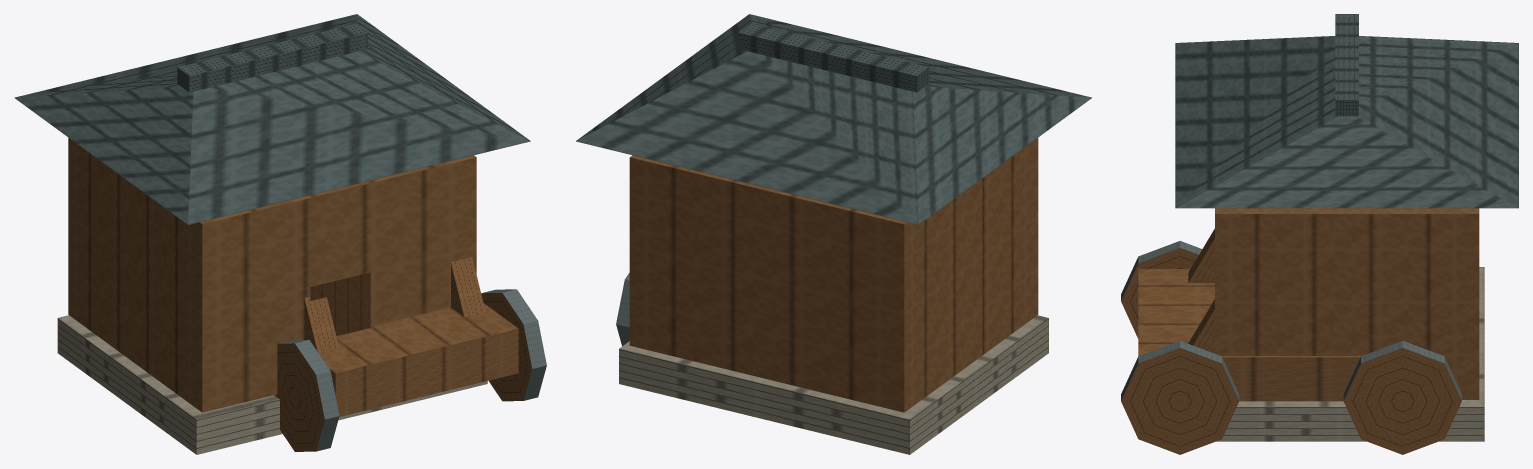
Rendered from domestic-WORKSHOP-1-lod2.glb.
The picture shows the model from 3 angles, left to right: view 1: azimuth 30°, elevation 25°; view 2: azimuth 150°, elevation 25°; view 3: azimuth 270°, elevation 25°; orthographic projection.
Bounding box in the file's own units: 0.5625 × 0.509 × 0.572.
1 material, 1 textured.
